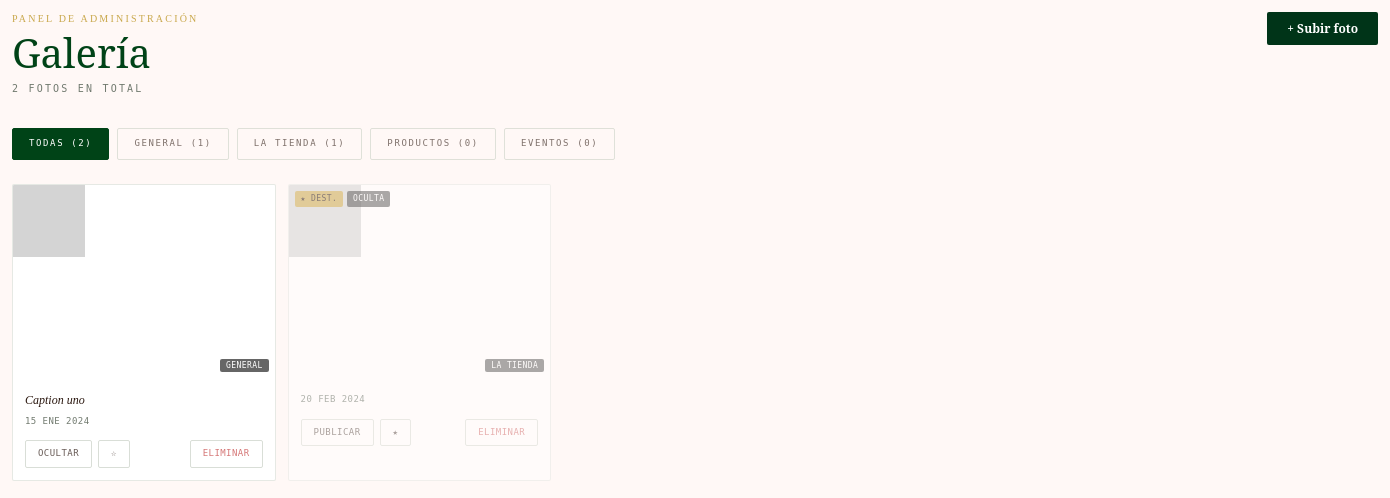
Test case: AdminGaleriaClient › shows empty state when filter has no results
Click the button "Eventos (0)".
click(560, 144)  # box [504,128,615,160]
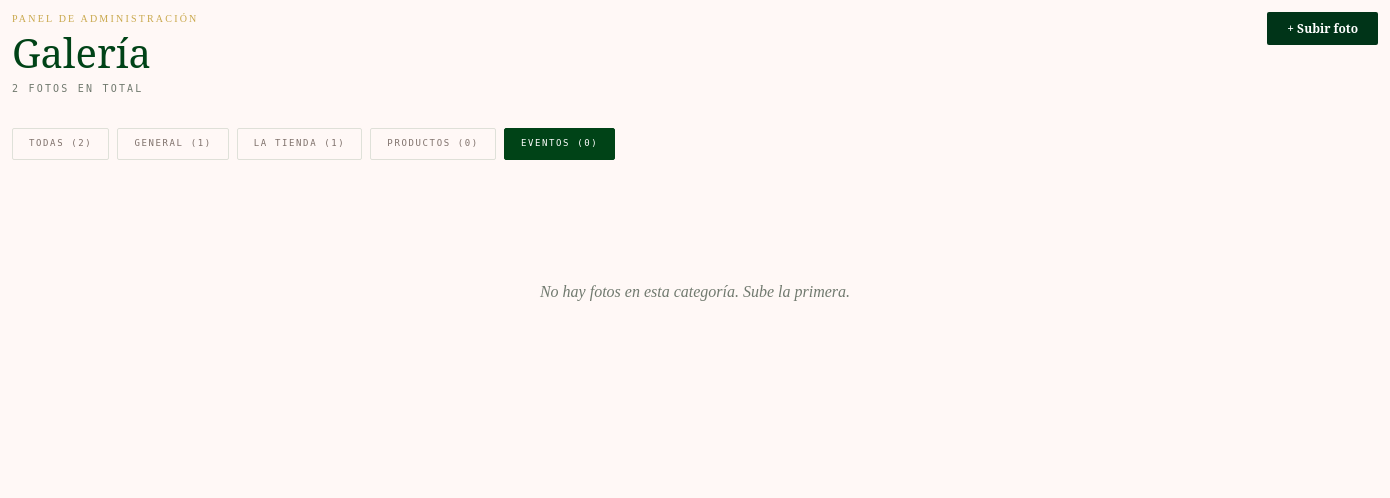
Result: the text "No hay fotos en esta categoría. Sube la primera." is shown at [540,283,850,300]
